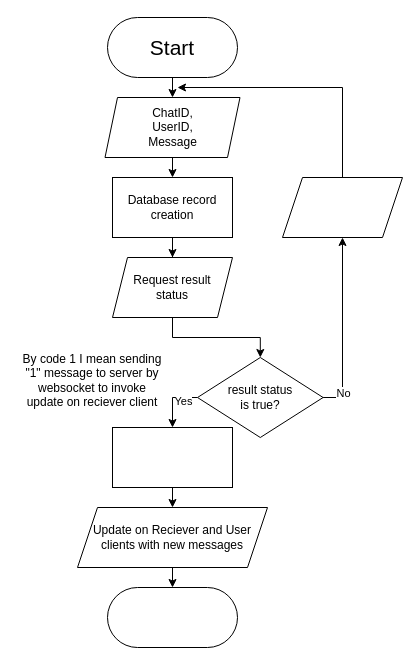
The diagram is 420 pixels wide and 665 high, and some of its shapes have lost their labels. Here are the shapes that lost their labels. From the top down, the box of each, then its label:
(282, 176, 402, 238): Warning ("The error occurred, please try again")
(112, 426, 232, 488): Send code 1
(106, 586, 238, 648): End
